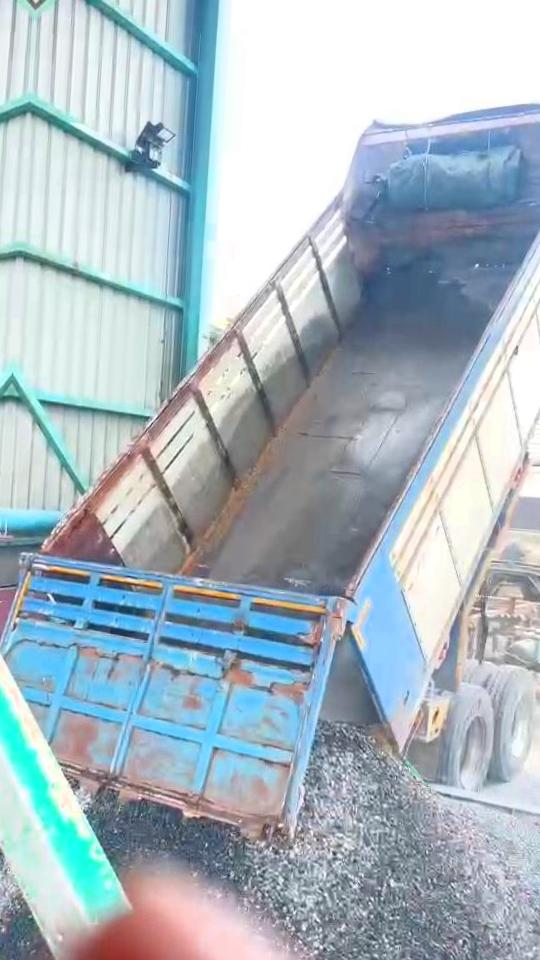gravel: (91, 727, 540, 960), (0, 860, 44, 960)
